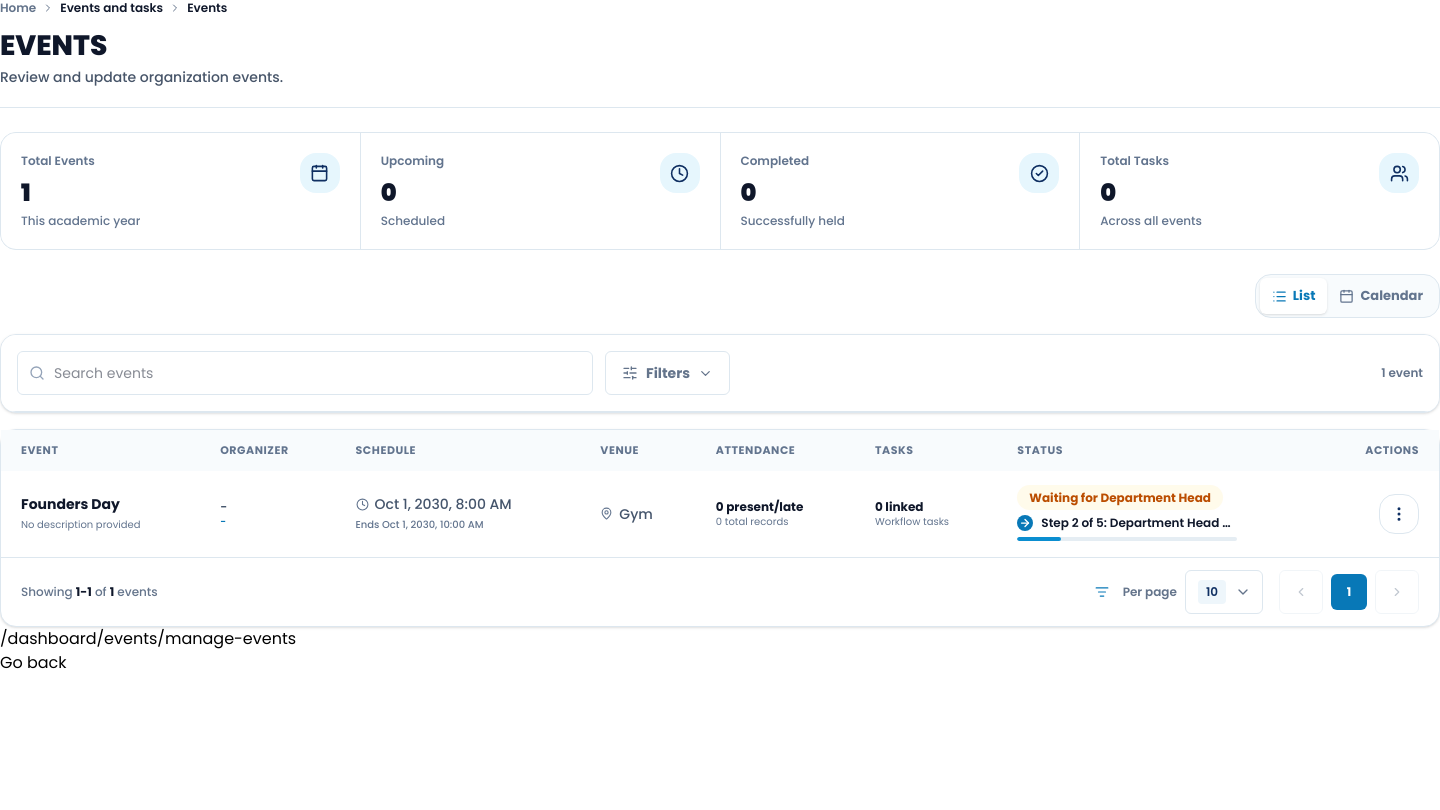
Scenario: event drawer stage and next action › awaiting_department_head for DEPARTMENT_HEAD says "Review this event"
Click the button named "Actions for Founders Day".
click(1399, 514)  # box [1379,494,1419,534]
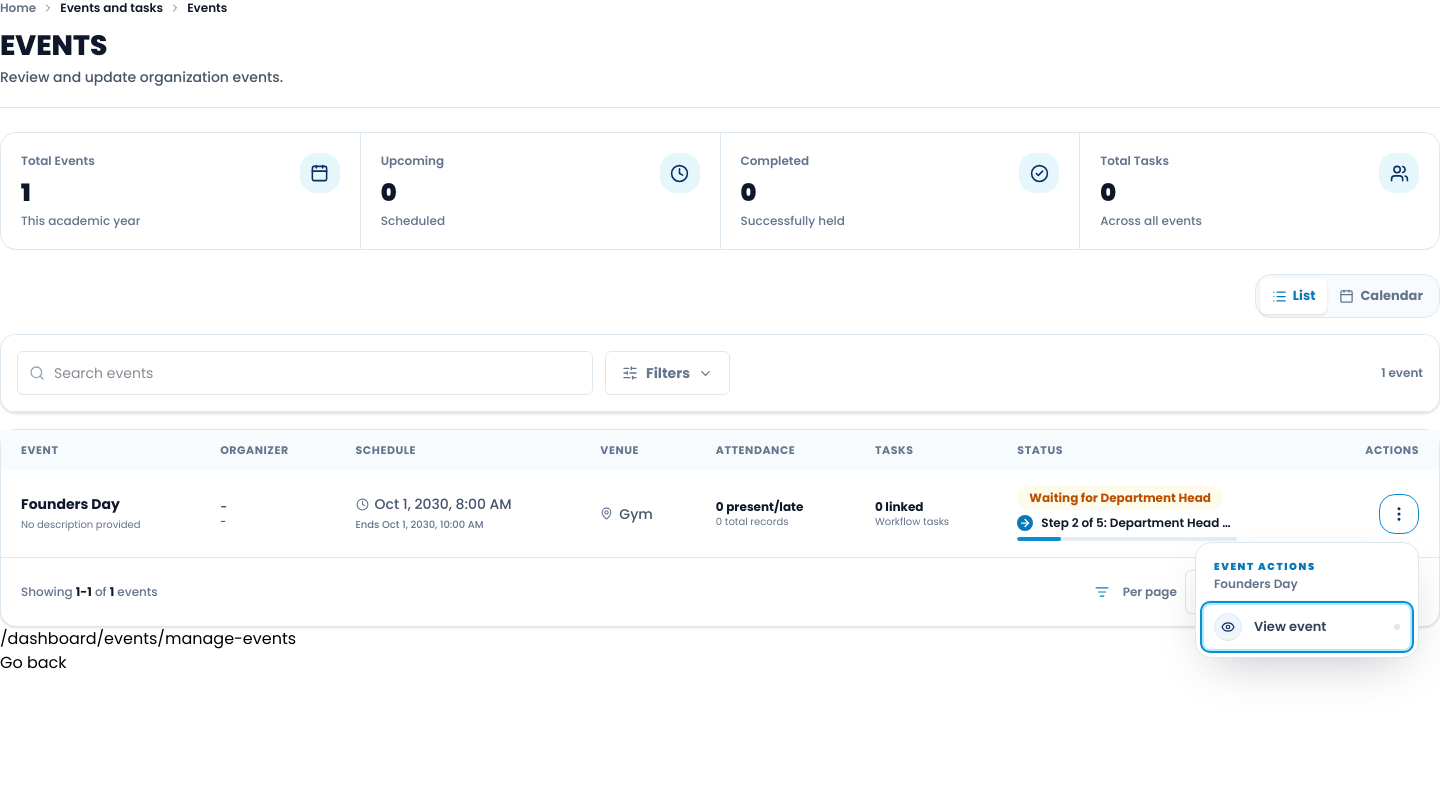
Click the menu item "View event".
click(1307, 626)  # box [1204,604,1410,648]
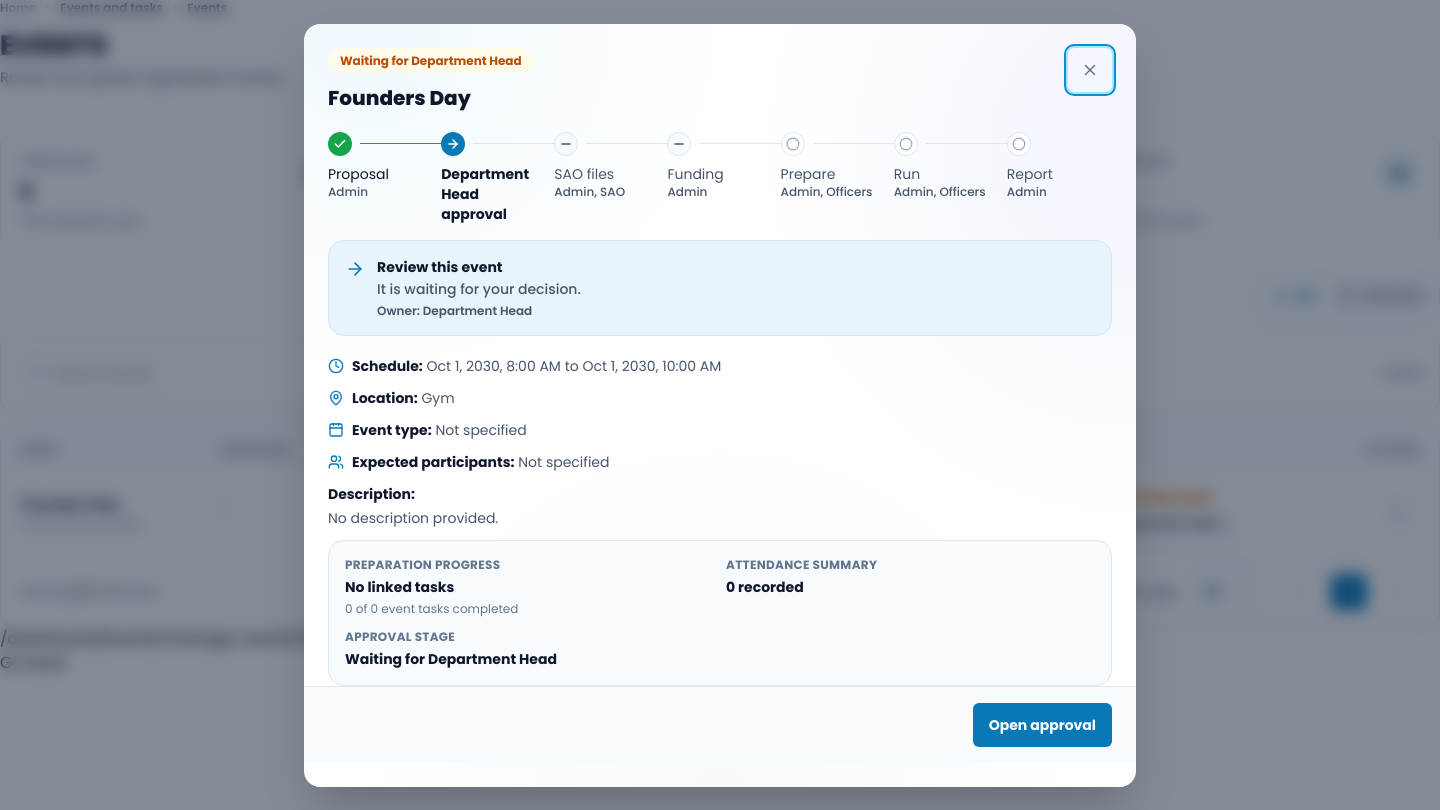
Expected: the list named "Event progress" is shown, [328,132,1112,224]
Expected: the text "Review this event" is shown, [377,256,502,276]
